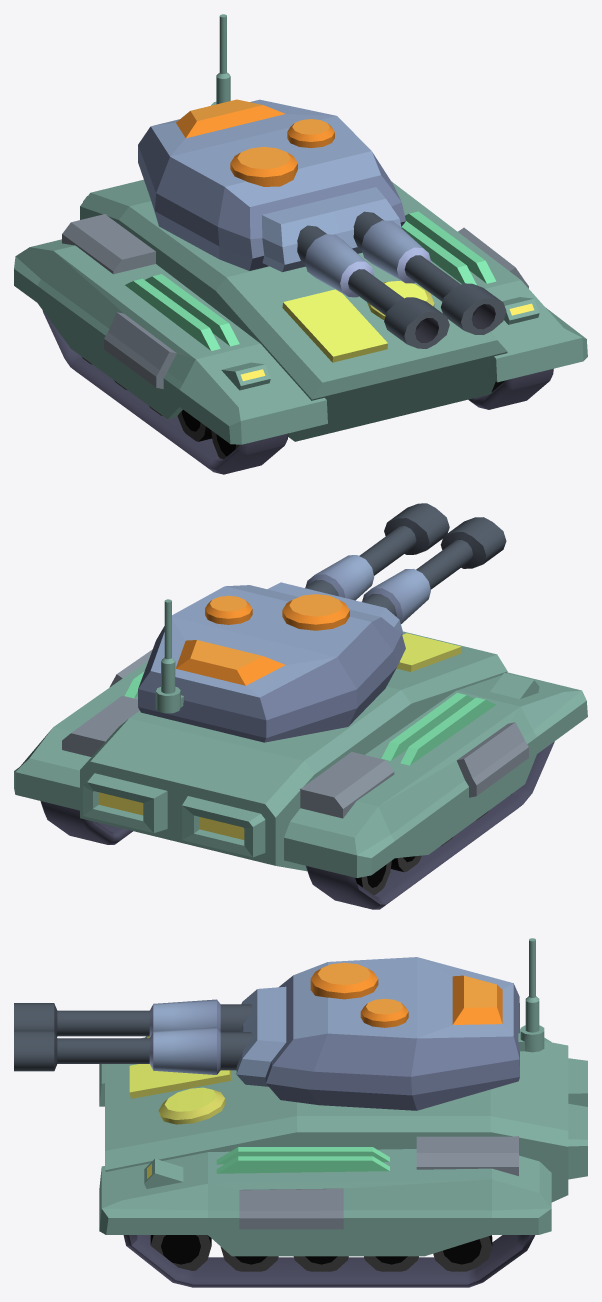
File: Tank3.fbx
3 views of the same model, one above another, from view 1: azimuth 30°, elevation 25°; view 2: azimuth 150°, elevation 25°; view 3: azimuth 270°, elevation 25° (orthographic).
Visible parts, largest first — view 1: Body, Top, Barrel, Tie_R, Tie_L; view 2: Body, Top, Barrel, Tie_R, Tie_L; view 3: Body, Top, Barrel, Tie_L.
Part boxes in pixels (box(x1,y1,x2,y2)): Body: box(14, 179, 587, 444); Top: box(138, 14, 405, 272); Barrel: box(297, 211, 506, 348); Tie_R: box(42, 310, 288, 474); Tie_L: box(468, 368, 553, 409); Body: box(14, 631, 587, 877); Top: box(138, 582, 405, 742); Barrel: box(305, 503, 506, 623); Tie_R: box(306, 741, 554, 909); Tie_L: box(40, 801, 132, 844); Body: box(99, 1029, 587, 1256); Top: box(236, 938, 544, 1110); Barrel: box(14, 999, 252, 1074); Tie_L: box(123, 1235, 535, 1287).
Bounding box in the file's own units: 285 × 211 × 381.
